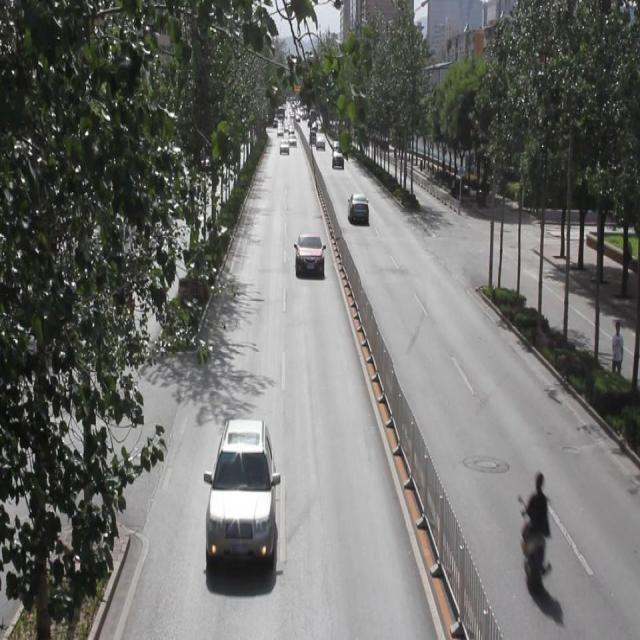car: (202, 414, 286, 570), (294, 234, 331, 284), (348, 190, 373, 225), (328, 144, 346, 174)
